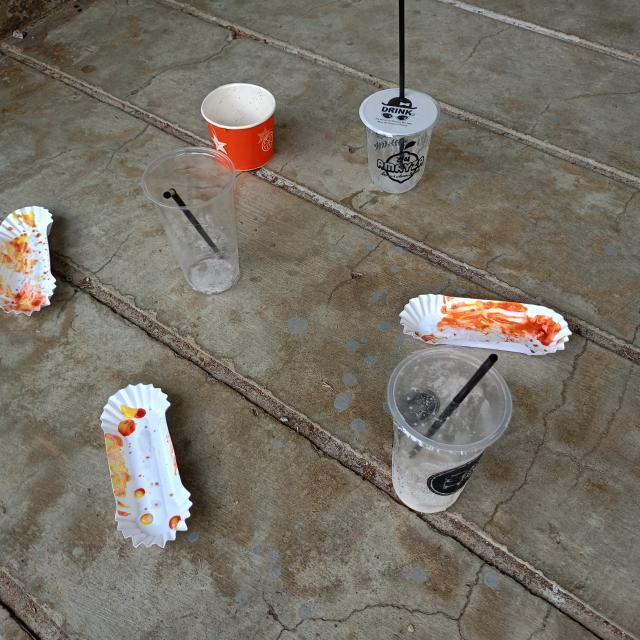recyclable waste: (378, 337, 520, 522), (90, 374, 202, 558), (133, 138, 251, 302), (391, 288, 577, 359), (350, 80, 448, 200), (193, 76, 284, 178), (0, 199, 65, 323)
